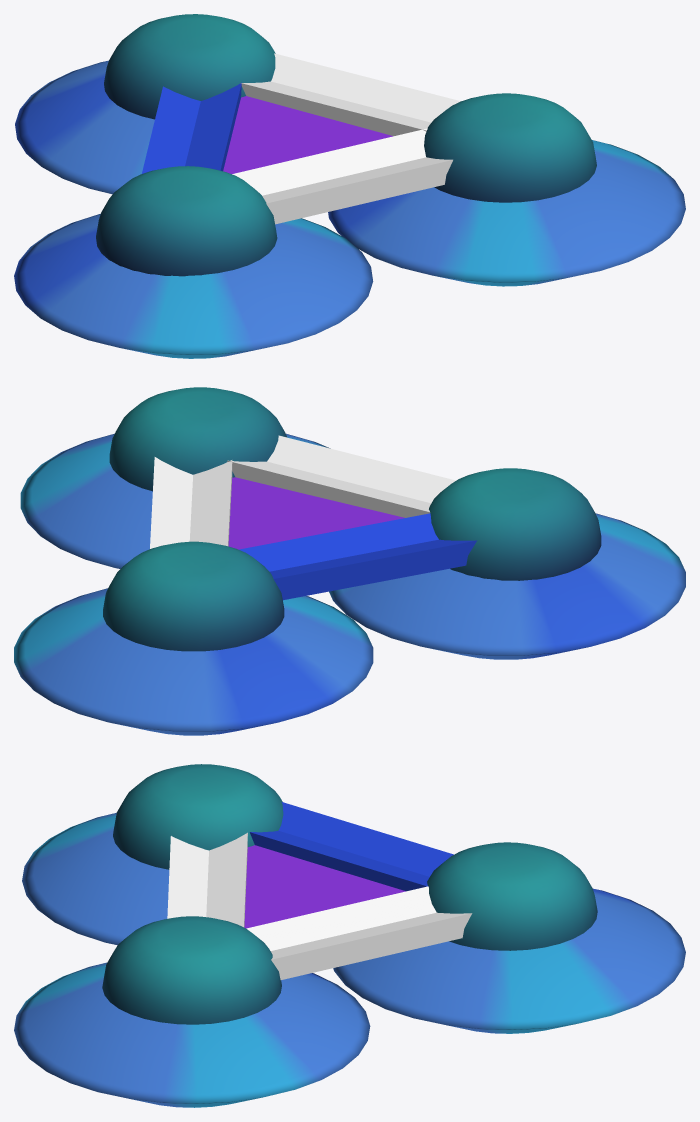
The model's file is тарелка 5.fbx.
3 renders of one model, top to bottom at view 1: azimuth 30°, elevation 25°; view 2: azimuth 150°, elevation 25°; view 3: azimuth 270°, elevation 25°, orthographic.
Parts seen in each view (by area): view 1: Cylinder, Cylinder.003, Cylinder.001, Cylinder.002, Cube.002, Cylinder.004, Cylinder.005, Cube.001, Cube; view 2: Cylinder.005, Cylinder, Cube.002, Cylinder.004, Cylinder.001, Cylinder.002, Cylinder.003, Cube.001, Cube; view 3: Cylinder.003, Cylinder.005, Cylinder.002, Cube.002, Cylinder.004, Cylinder, Cylinder.001, Cube, Cube.001.
Boxes of the visible parts, x1,y1,x2,y2 form: Cylinder: [14, 214, 373, 358]; Cylinder.003: [328, 140, 685, 286]; Cylinder.001: [96, 166, 277, 276]; Cylinder.002: [424, 93, 596, 202]; Cube.002: [142, 82, 392, 173]; Cylinder.004: [104, 14, 275, 119]; Cylinder.005: [15, 60, 154, 194]; Cube.001: [232, 128, 452, 224]; Cube: [240, 53, 460, 136]; Cylinder.005: [14, 588, 373, 735]; Cylinder: [329, 513, 685, 659]; Cube.002: [228, 477, 477, 600]; Cylinder.004: [103, 541, 284, 651]; Cylinder.001: [429, 468, 601, 580]; Cylinder.002: [109, 387, 287, 491]; Cylinder.003: [20, 433, 330, 568]; Cube.001: [227, 435, 455, 517]; Cube: [150, 457, 232, 548]; Cylinder.003: [14, 962, 370, 1107]; Cylinder.005: [333, 888, 685, 1033]; Cylinder.002: [102, 916, 281, 1024]; Cube.002: [244, 802, 453, 928]; Cylinder.004: [427, 842, 597, 950]; Cylinder: [22, 813, 169, 945]; Cylinder.001: [113, 764, 283, 869]; Cube: [246, 886, 472, 979]; Cube.001: [167, 832, 247, 927].
Bounding box in the file's own units: 253 × 52.98 × 239.
